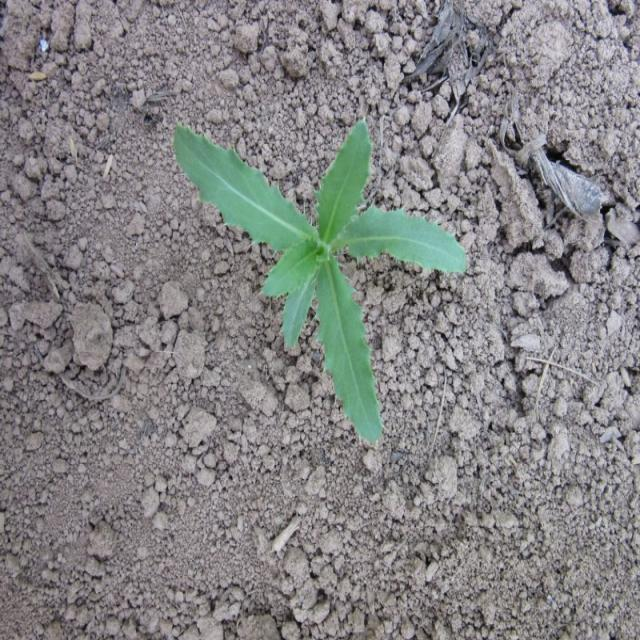field_thistle: (206, 150, 510, 428)
